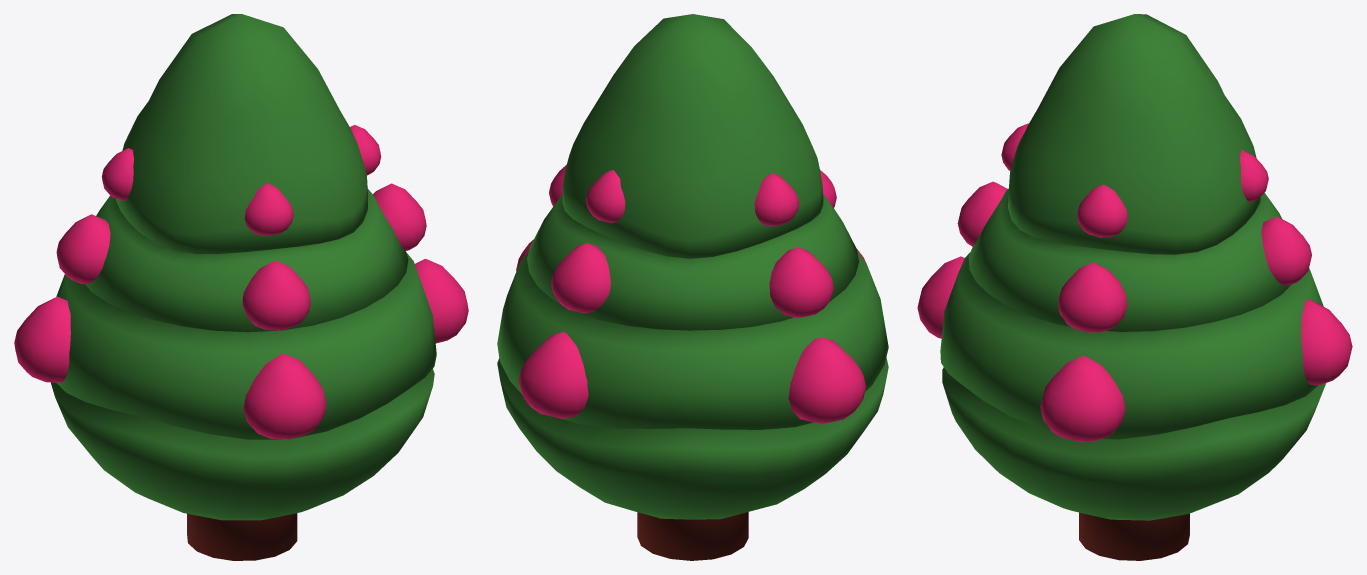
Rendered from M_Tree.fbx.
3 views of the same model, side by side, from view 1: azimuth 30°, elevation 25°; view 2: azimuth 150°, elevation 25°; view 3: azimuth 270°, elevation 25° (orthographic).
Parts seen in each view (by area): view 1: Foliage.001, Fruit, Trunk; view 2: Foliage.001, Fruit, Trunk; view 3: Foliage.001, Fruit, Trunk.
Boxes of the visible parts, x1,y1,x2,y2 form: Foliage.001: (50, 14, 436, 520); Fruit: (14, 125, 468, 439); Trunk: (187, 513, 297, 560); Foliage.001: (497, 14, 888, 519); Fruit: (516, 165, 866, 423); Trunk: (637, 512, 748, 560); Foliage.001: (940, 14, 1325, 520); Fruit: (917, 123, 1352, 441); Trunk: (1079, 512, 1189, 560).
Size of the model in its own units: 232 by 298 by 224.
